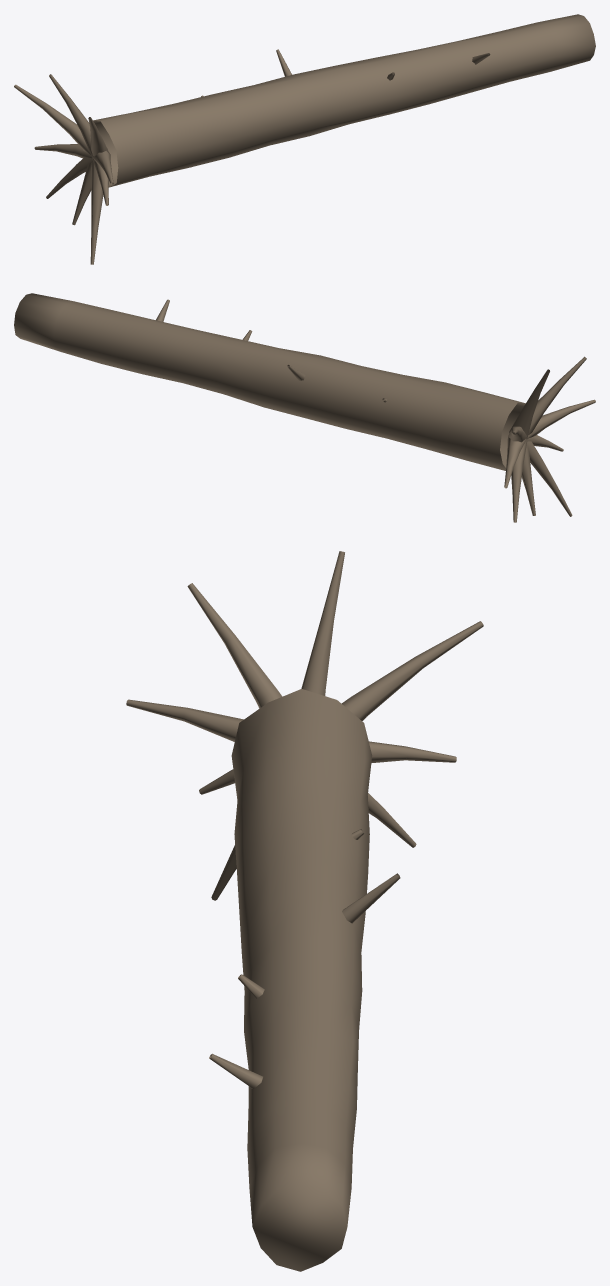
Rendered from ENV_PC_FallenTrunk_B.fbx.
3 views of the same model, one above another, from view 1: azimuth 30°, elevation 25°; view 2: azimuth 150°, elevation 25°; view 3: azimuth 270°, elevation 25° (orthographic). The views are drawn at different scales.
Visible parts, largest first — view 1: ENV_PC_FallenTrunk_B_LOD0; view 2: ENV_PC_FallenTrunk_B_LOD0; view 3: ENV_PC_FallenTrunk_B_LOD0.
Part boxes in pixels (x1,y1,x2,y2): ENV_PC_FallenTrunk_B_LOD0: (14,14,595,264); ENV_PC_FallenTrunk_B_LOD0: (14,293,595,522); ENV_PC_FallenTrunk_B_LOD0: (126,551,483,1271).
Size of what is drawn, in the model's own units: 11.5 by 3.55 by 3.39.
